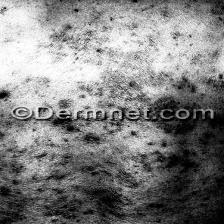Benign Marking or Mole: (40, 23, 180, 110), (54, 118, 75, 132), (158, 102, 170, 110)
